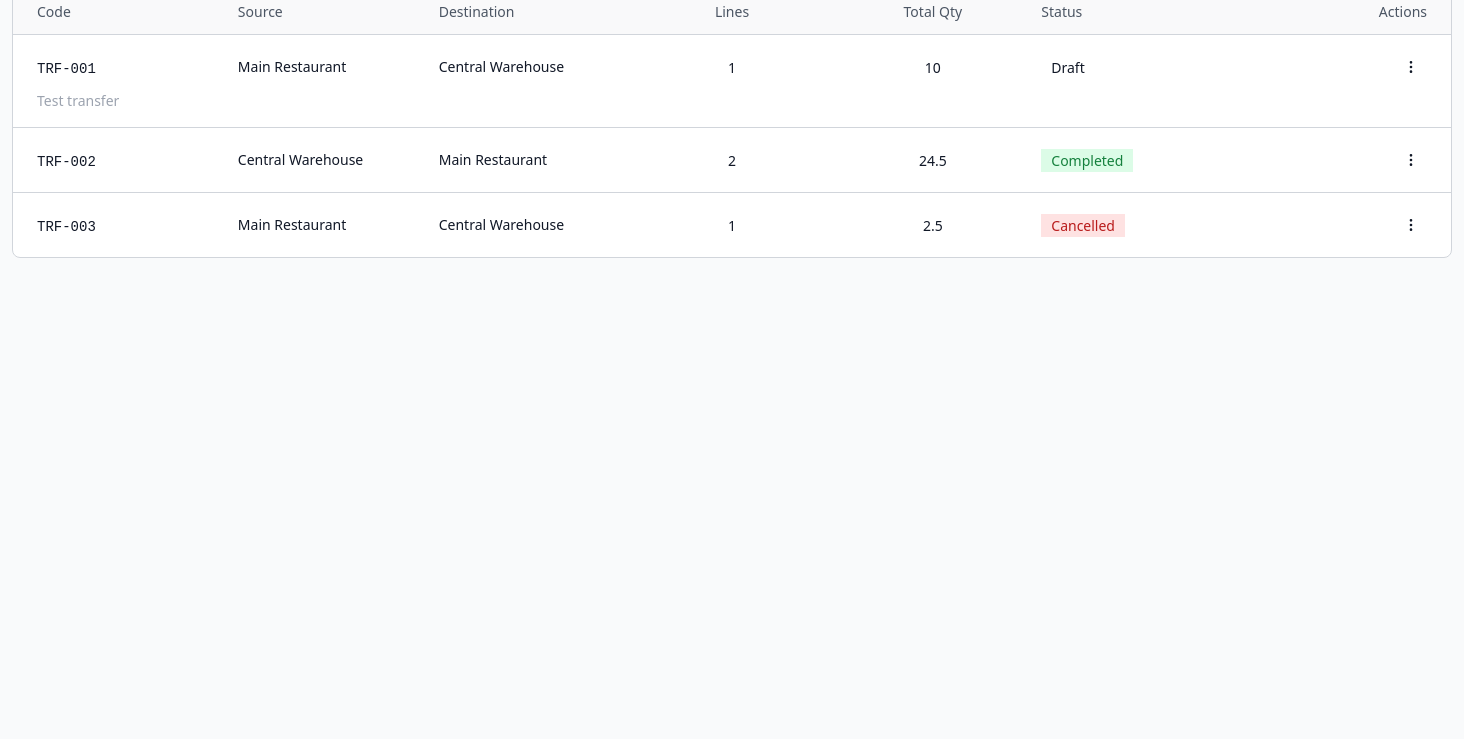
Scenario: TransfersList › Actions › should show limited actions for completed transfer
This screenshot has width=1464, height=739.
Find and click the actions button for completed transfer
Click the button named "More actions" in the row of "Completed" at (1411, 160), box [1395, 144, 1427, 176]
(page scrolled)
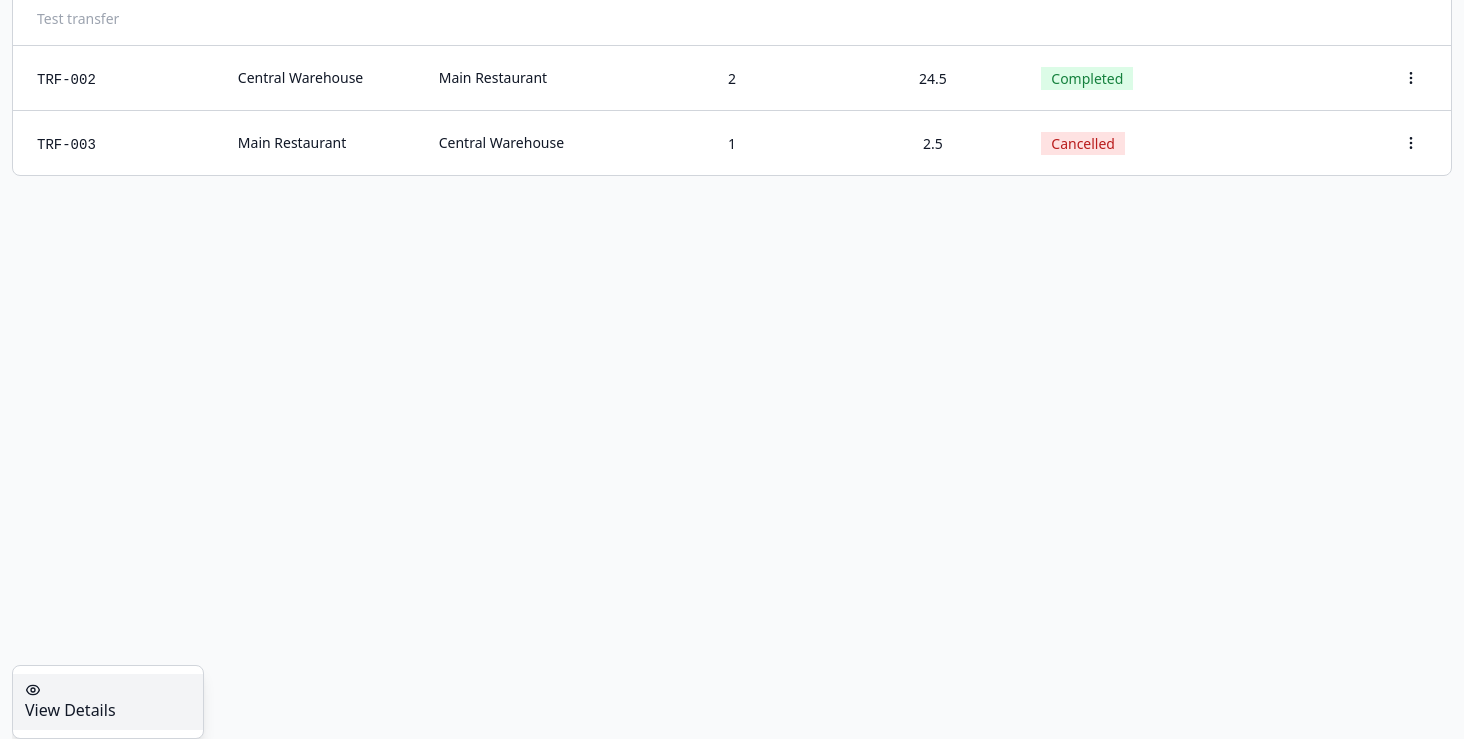
Now the menu item "View Details" is shown, box [13, 674, 203, 730]
